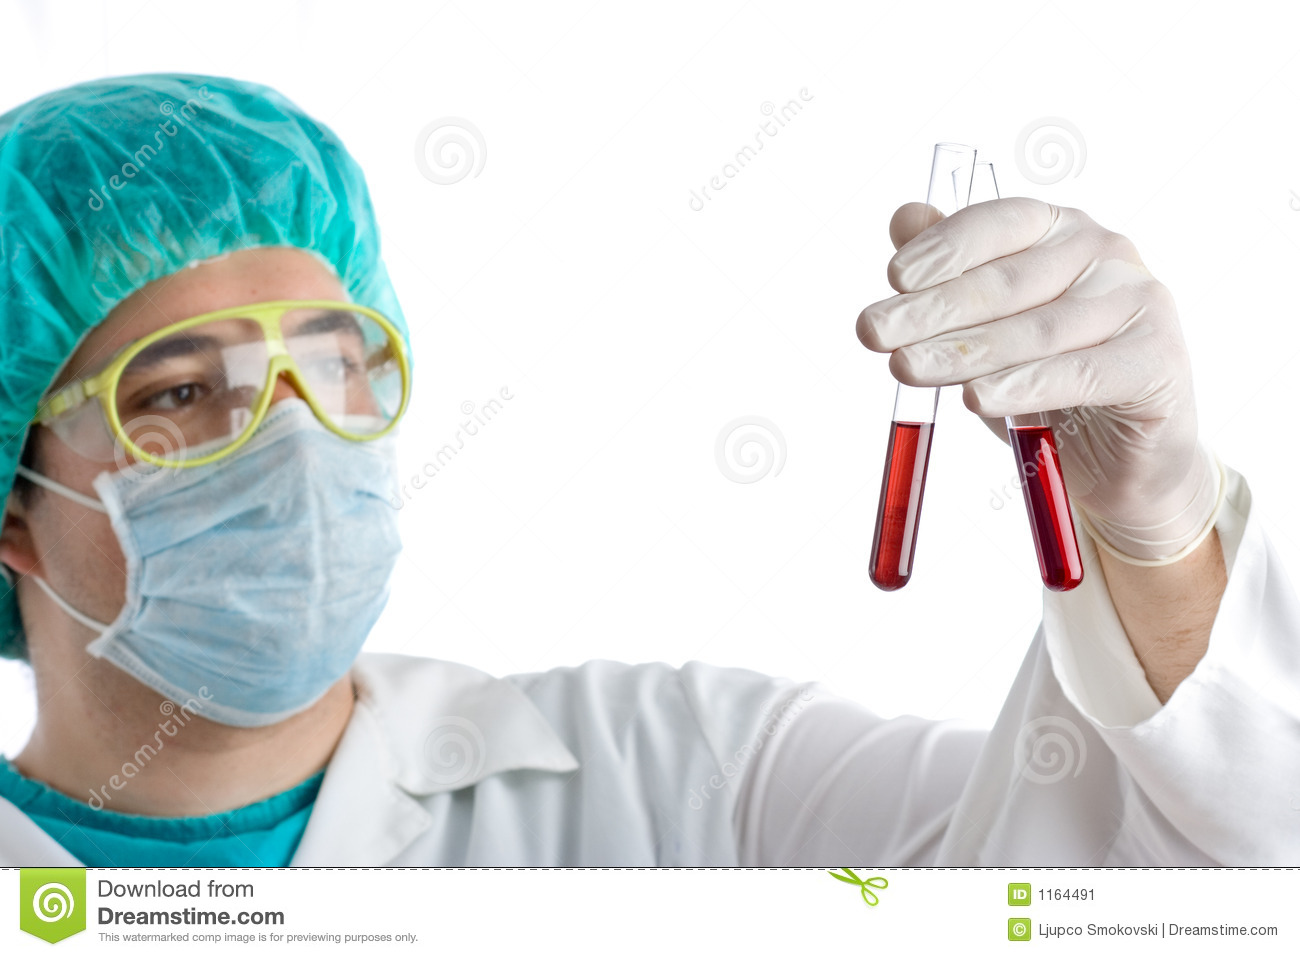mask: (114, 432, 407, 745)
